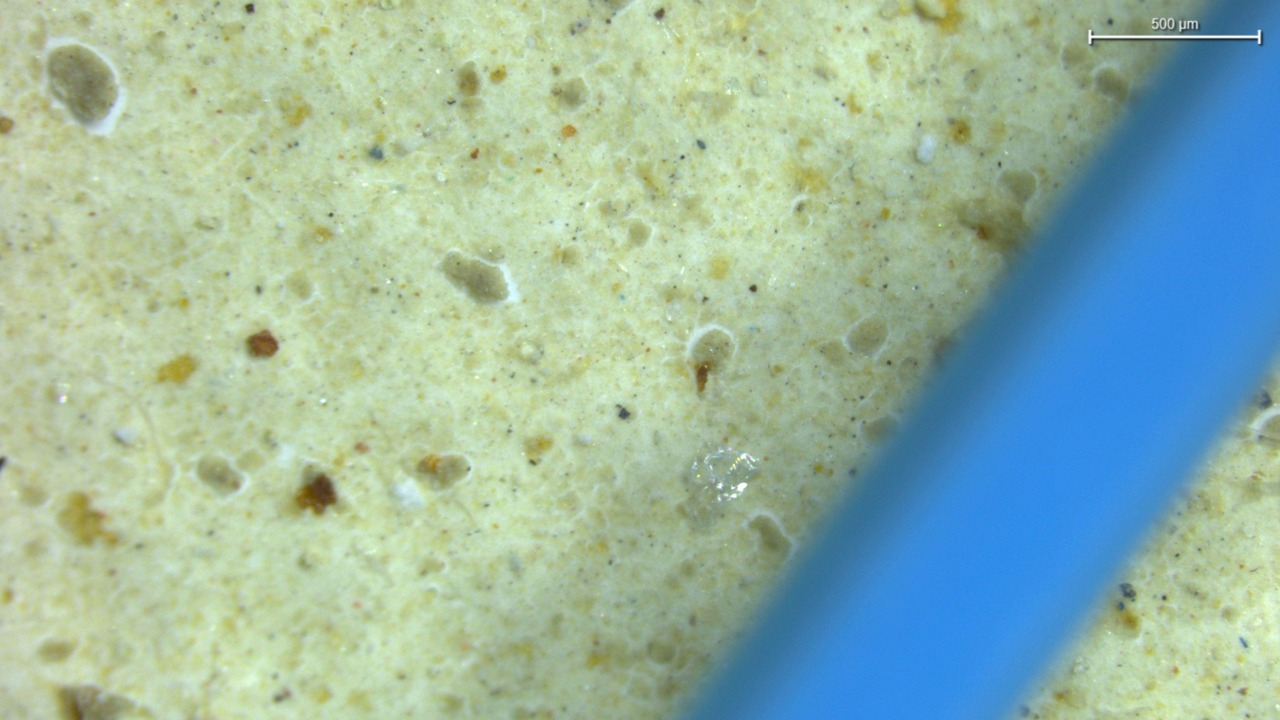microplastic_fragment: (684, 446, 759, 526)
